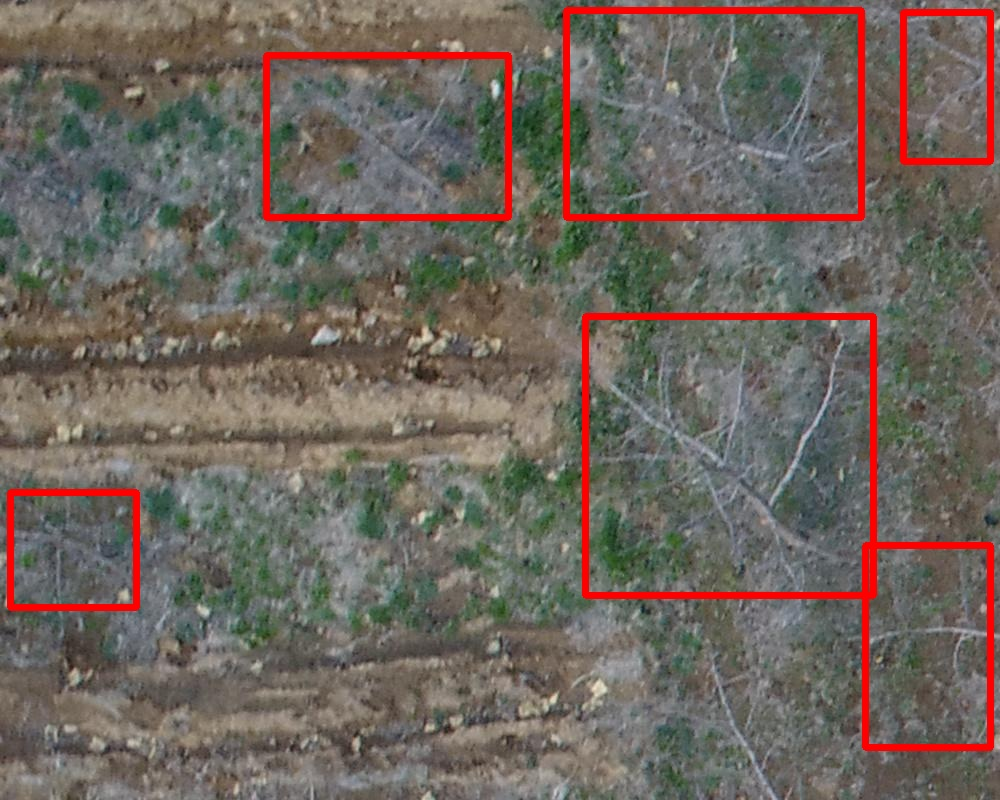apple: (585, 316, 873, 595), (566, 10, 861, 217), (266, 55, 508, 217), (865, 545, 990, 747), (10, 492, 136, 607), (903, 12, 990, 161)
